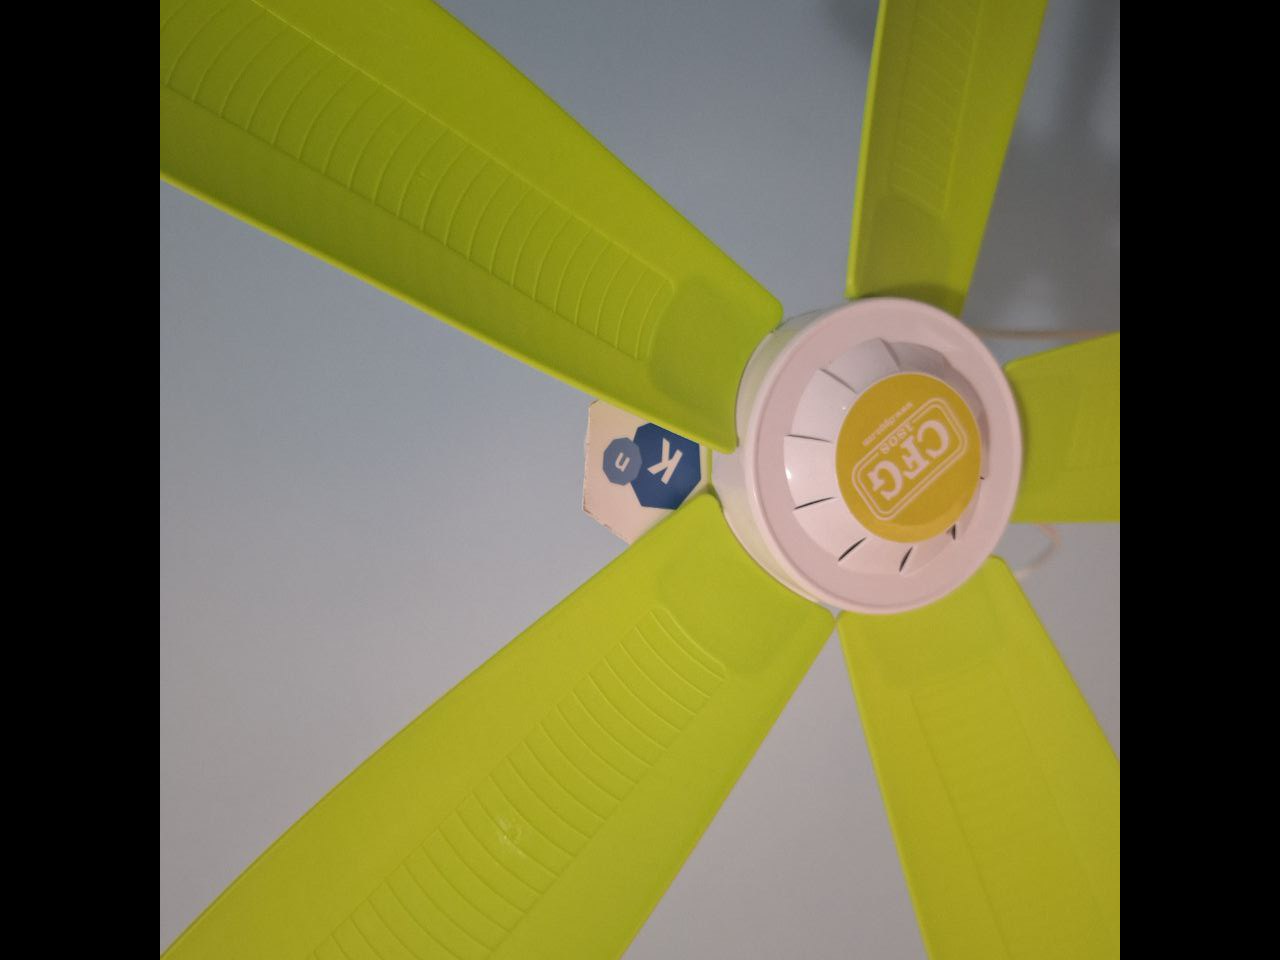knative: (601, 419, 703, 510)
